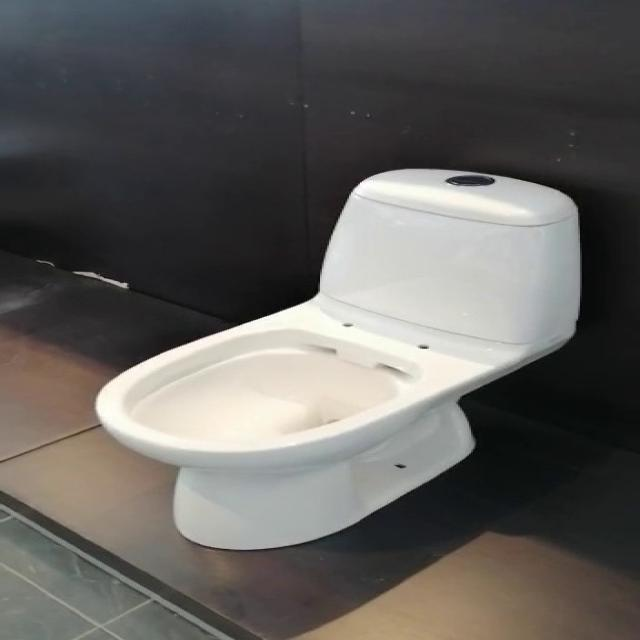toilet: (93, 167, 582, 550)
